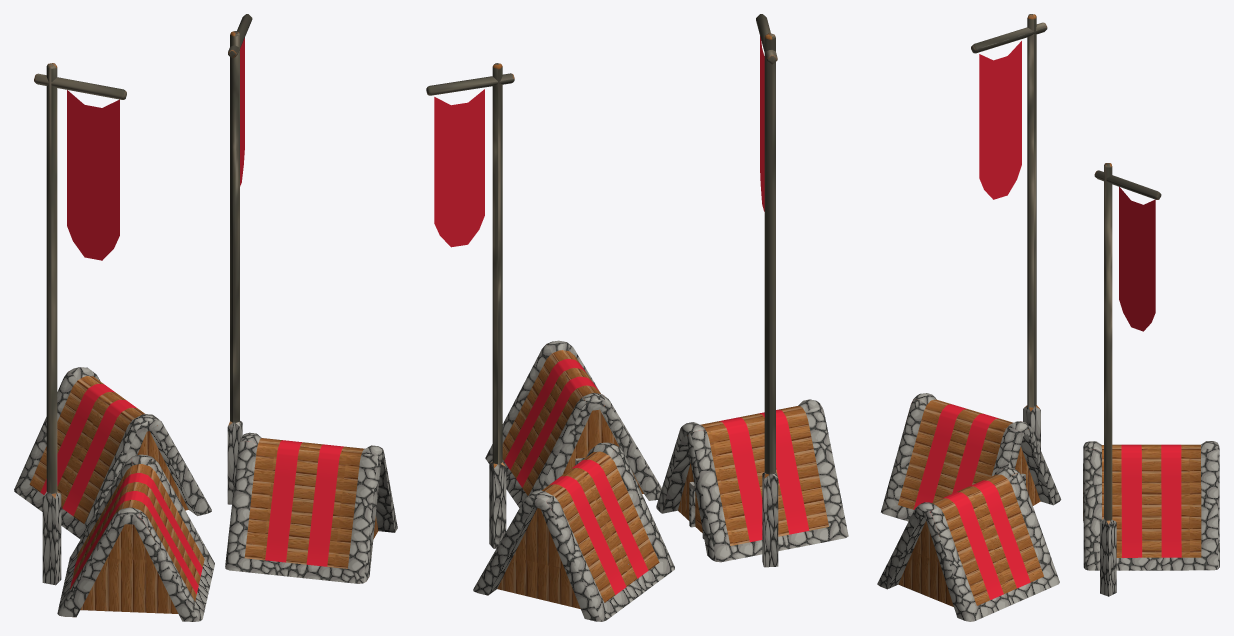
File: props_house.fbx
The picture shows the model from 3 angles, left to right: view 1: azimuth 30°, elevation 25°; view 2: azimuth 150°, elevation 25°; view 3: azimuth 270°, elevation 25°; orthographic projection. The views are drawn at different scales.
Parts seen in each view (by area): view 1: House.004; view 2: House.004; view 3: House.004.
Boxes of the visible parts, <box> form: House.004: <box>14,14,397,621</box>; House.004: <box>426,14,848,621</box>; House.004: <box>877,14,1219,621</box>.
Size of the model in its own units: 158 by 228 by 148.
